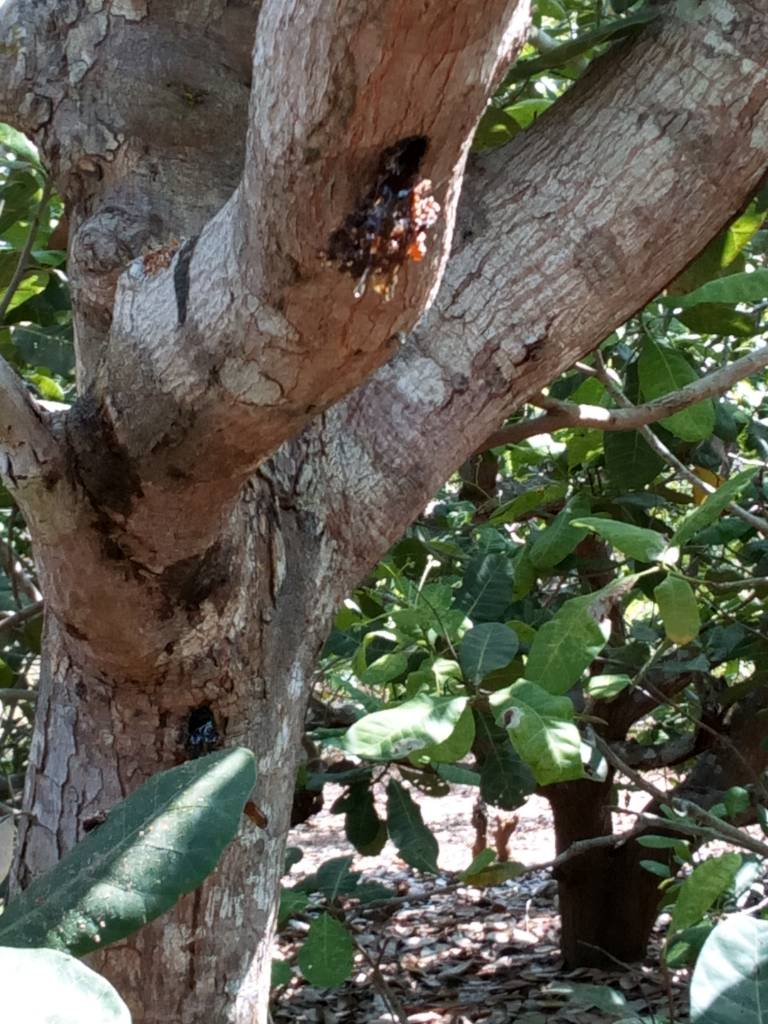Apate terebrans: (289, 66, 549, 326)
